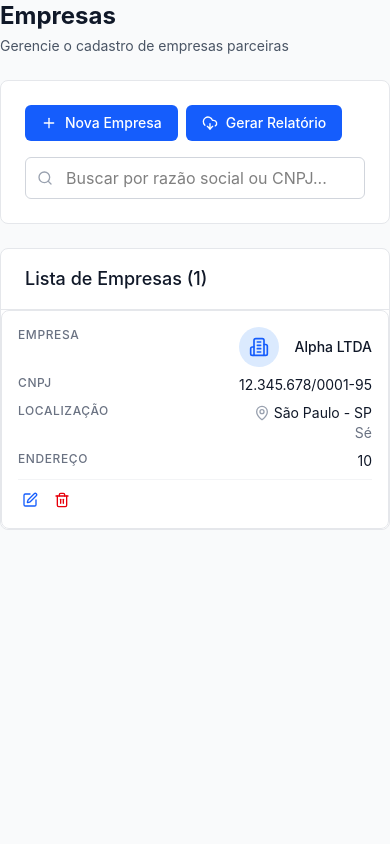
Companies page › opens edit modal with prefilled data
The image size is (390, 844).
Click the button titled "Editar" at (30, 500), box [18,488,42,512]
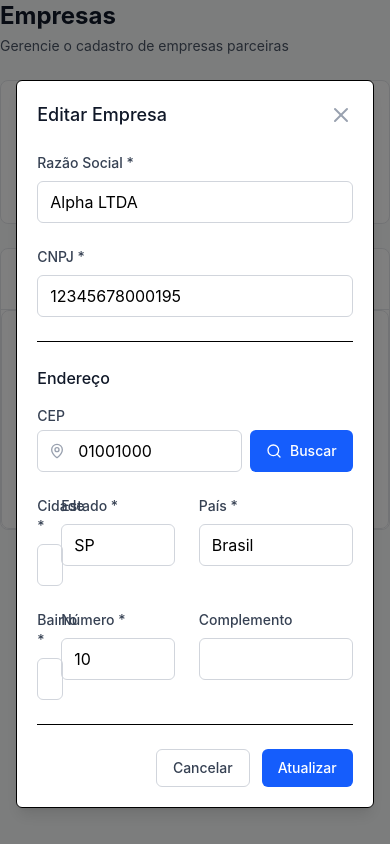
Now the heading "Editar Empresa" is shown, box [37,101,167,129]
